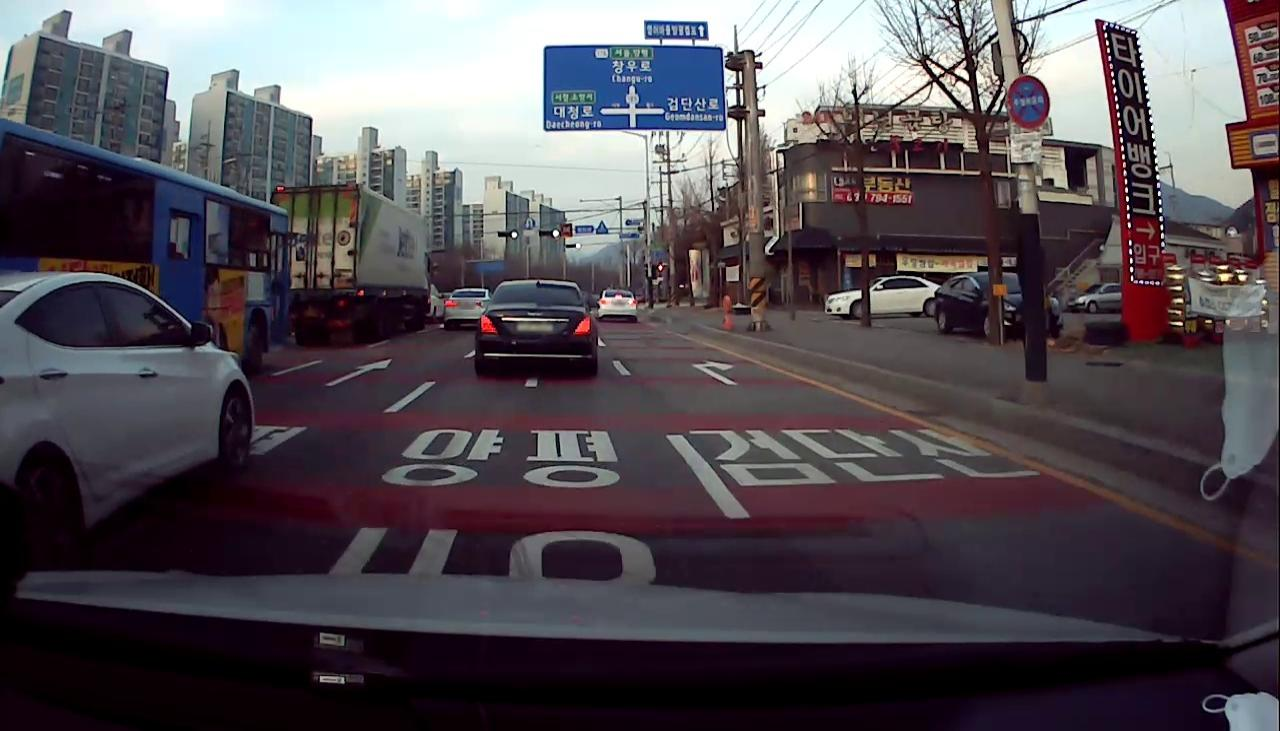Green Light: (551, 229, 560, 238), (510, 230, 518, 239), (575, 243, 581, 248)
